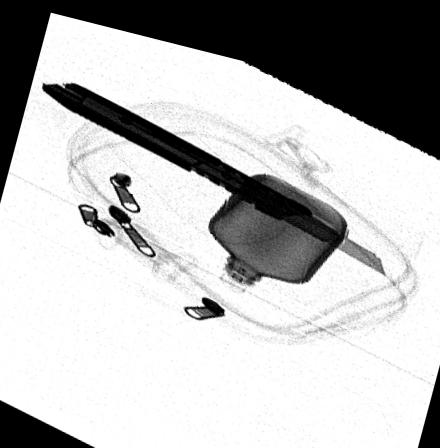Knife: (40, 76, 385, 256)
